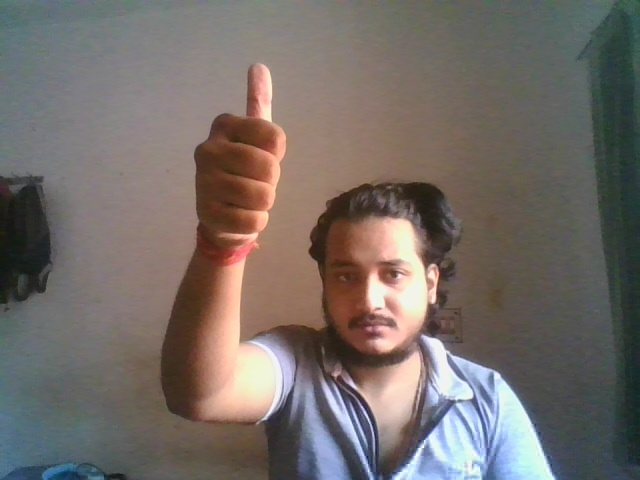ThumbsUp: (192, 63, 287, 241)
